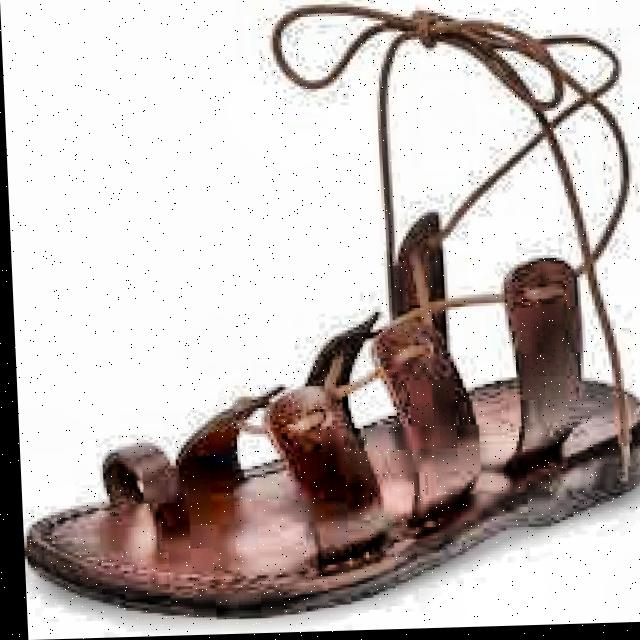shoes: (1, 0, 640, 628)
